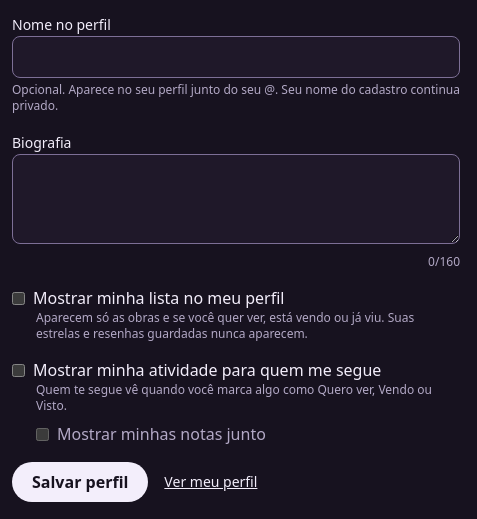
Test: ProfileForm › shows the activity toggles; ratings only while the activity is on
Check: the text "Quem te segue vê quando você marca algo como Quero ver, Vendo ou Visto." is shown, box [36,382,460,414]
Check: the checkbox labelled "Mostrar minhas notas junto" is disabled, box [36,428,49,440]
Step 1. Click the checkbox labelled "Mostrar minha atividade para quem me segue" → (18,370), box [12,364,25,376]
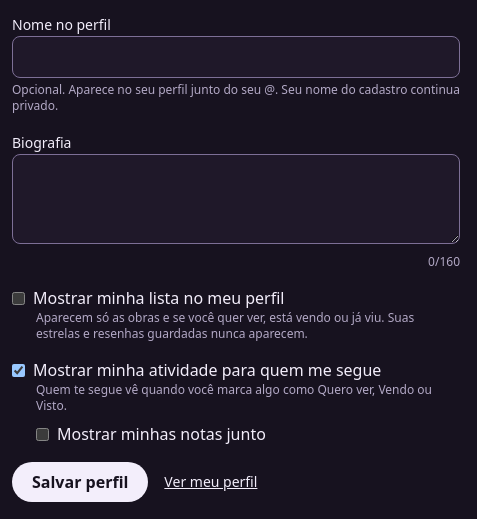
Check: the checkbox labelled "Mostrar minhas notas junto" is not checked, box [36,428,49,440]
Check: the checkbox labelled "Mostrar minha atividade para quem me segue" is checked, box [12,364,25,376]
Check: the checkbox labelled "Mostrar minhas notas junto" is enabled, box [36,428,49,440]
